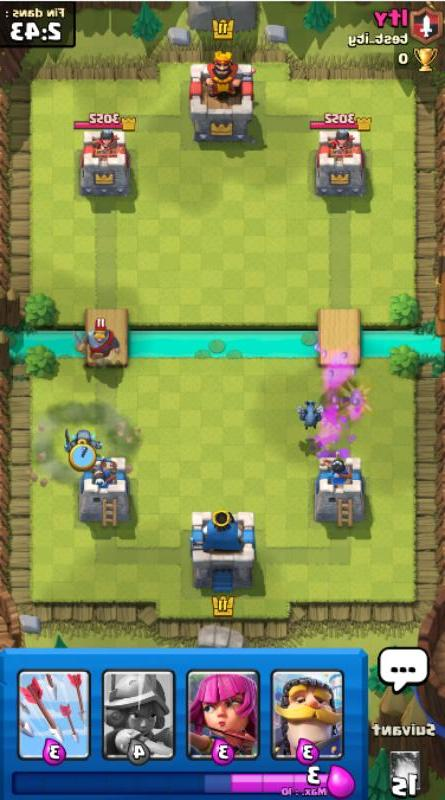chevalier: (73, 317, 121, 370)
gargouille: (297, 400, 324, 431)
mini_PEKKA: (63, 427, 105, 459)
